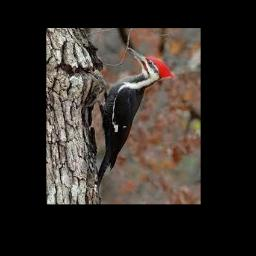Woodpecker: (96, 47, 175, 193)
